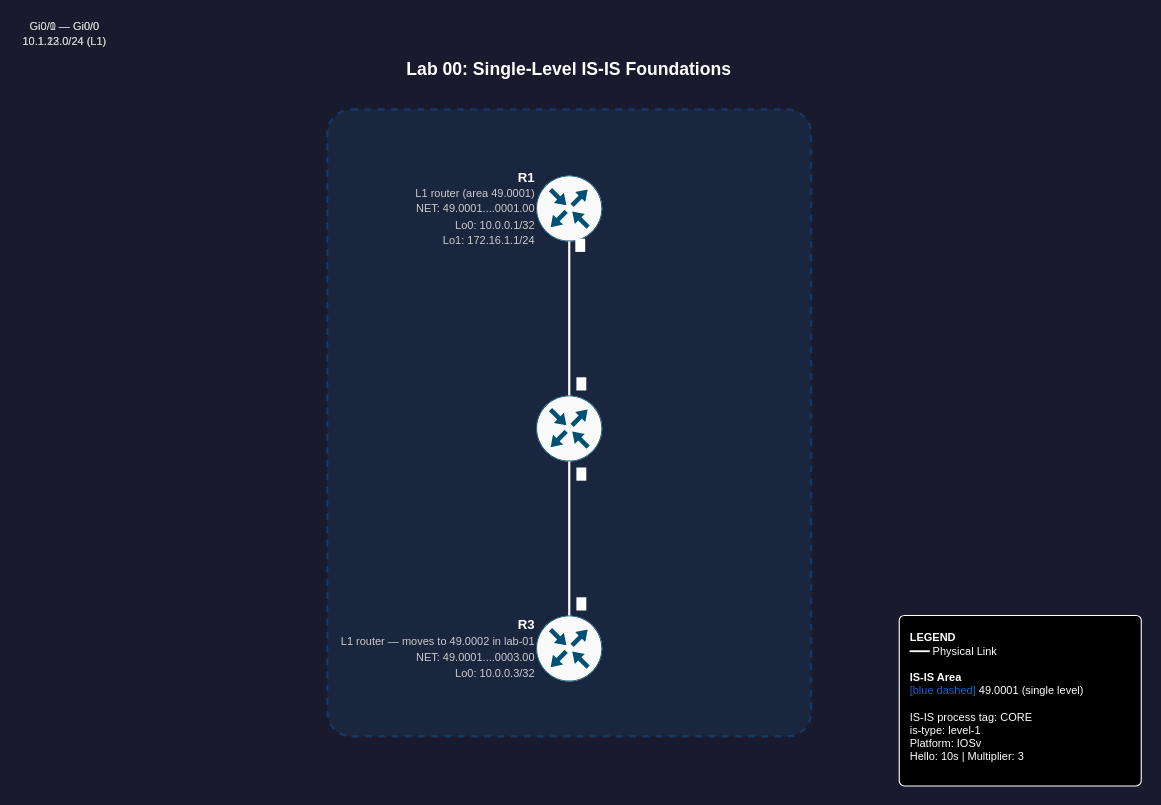
The diagram is 1161 pixels wide and 805 high, and some of its shapes have lost their labels. The shapes that lost their labels are listed below. From the top down, each one's box as (x1, y1, x2, y2) in pixels, then its label:
(535, 394, 602, 461): R2 L1 router — future L1/L2 in lab-01 NET: 49.0001....0002.00 Lo0: 10.0.0.2/32
(326, 108, 812, 737): Area 49.0001 (Single Level — L1 only)
